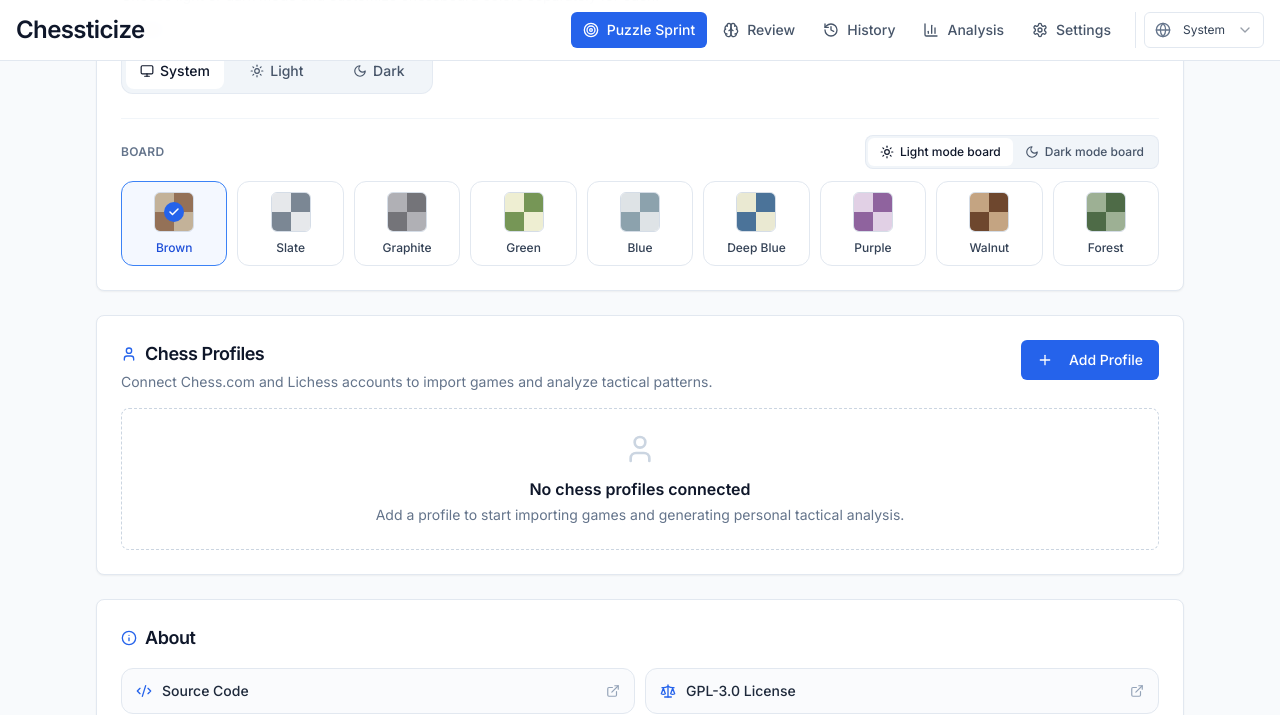
Test: SettingsPage profile management › creates a new Lichess profile from the Settings form
The image size is (1280, 715).
(page scrolled)
Click the button "Add Profile".
click(1090, 360)  # box [1021, 340, 1159, 380]
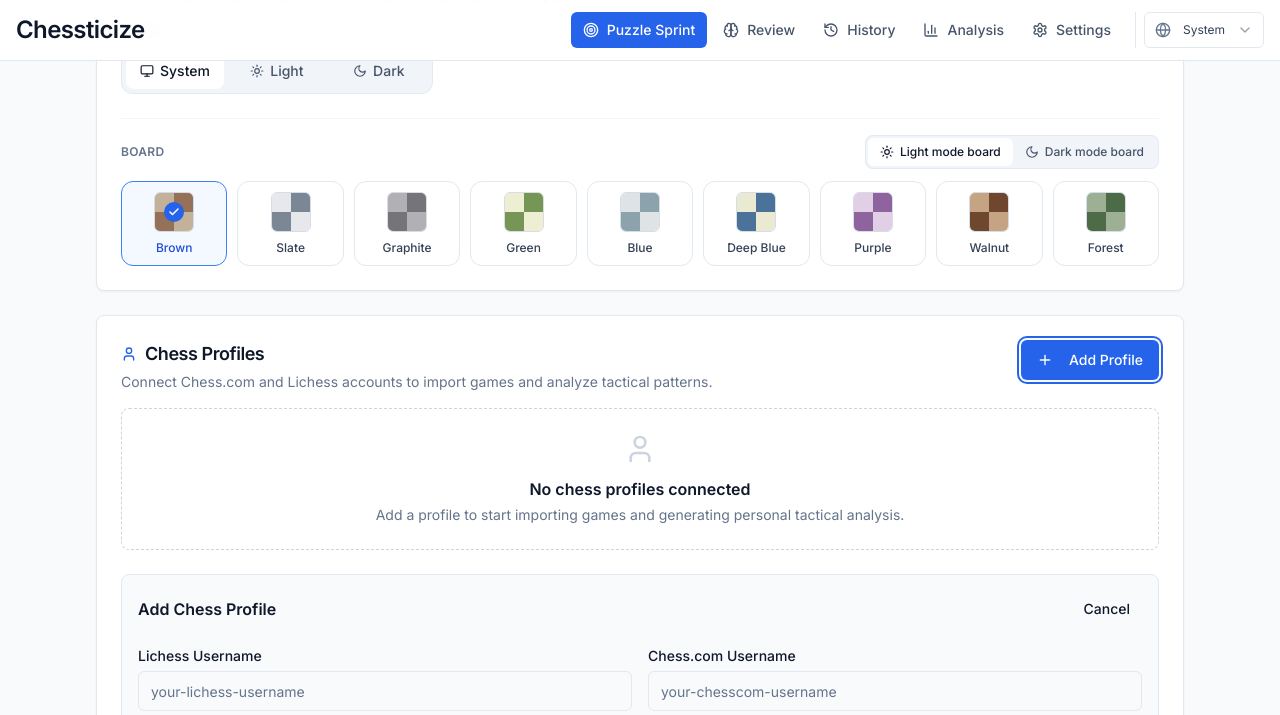
Type "alice" into the field labelled "Lichess Username".
click(385, 691); type("alice")  # box [138, 671, 632, 711]
(page scrolled)
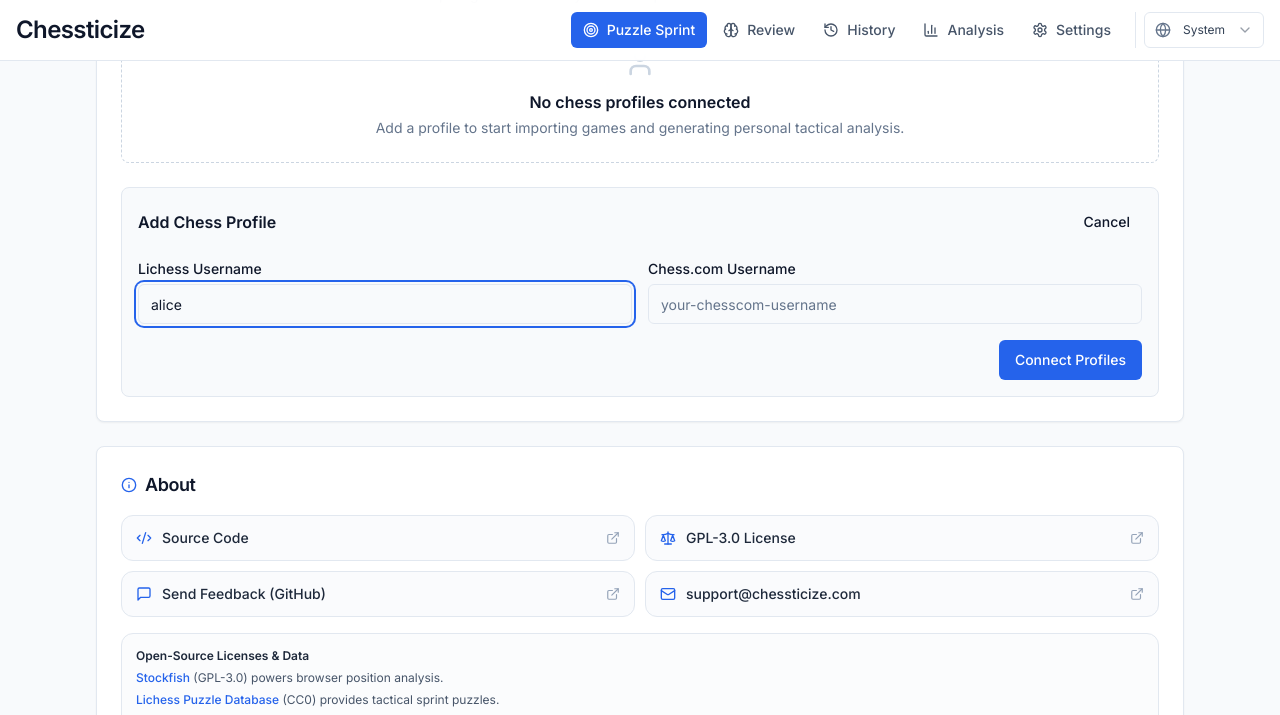
Click the button "Connect Profiles".
click(1070, 360)  # box [999, 340, 1142, 380]
(page scrolled)
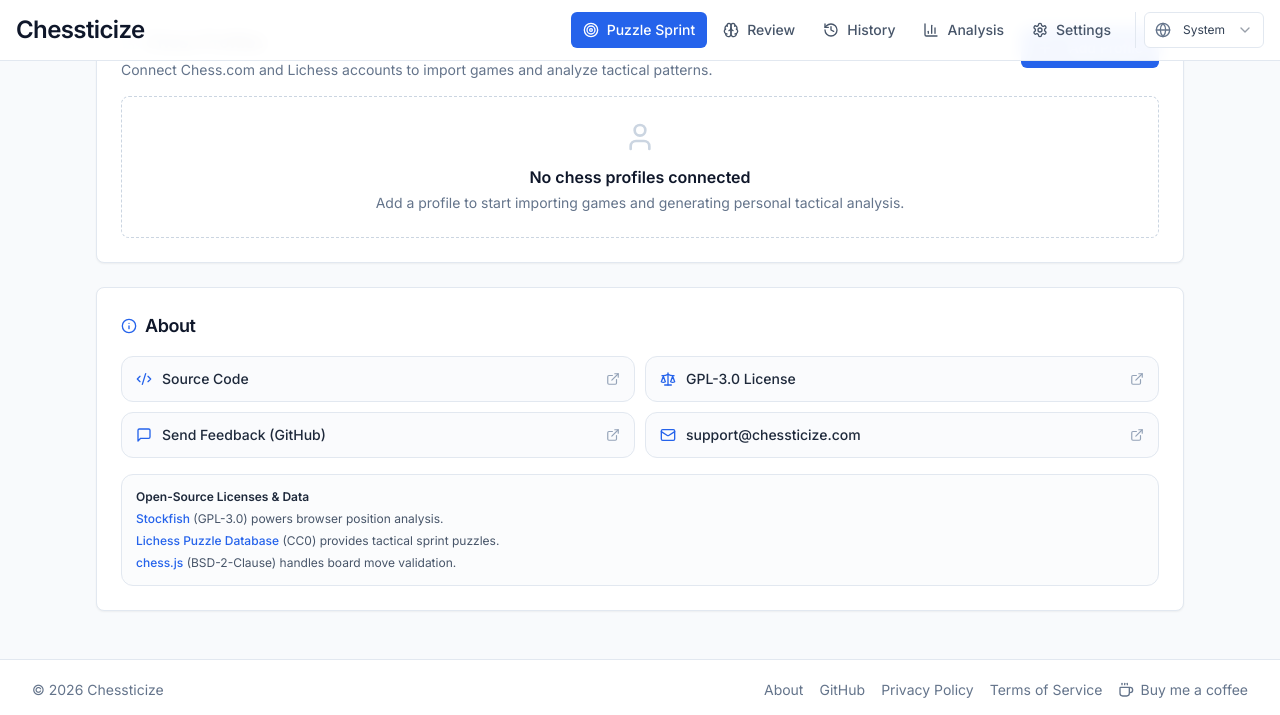
Result: the button "Connect Profiles" is gone
